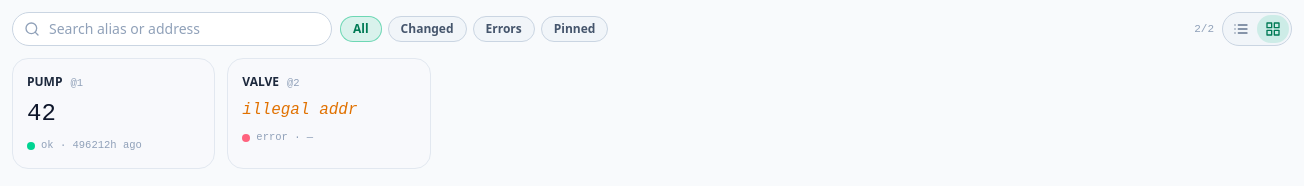
it: RegisterMonitorView › filters with the search box
Step 1. Type "PUMP" into the field named "search registers" → (172, 29), box [12,12,332,46]
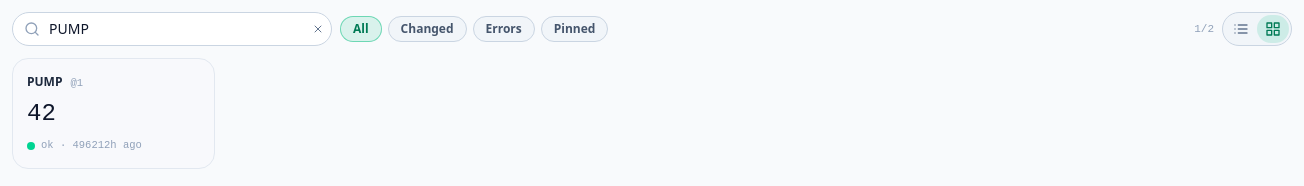
Expected: the text "PUMP" is shown, [27,73,62,91]
Expected: the button "VALVE" is gone
